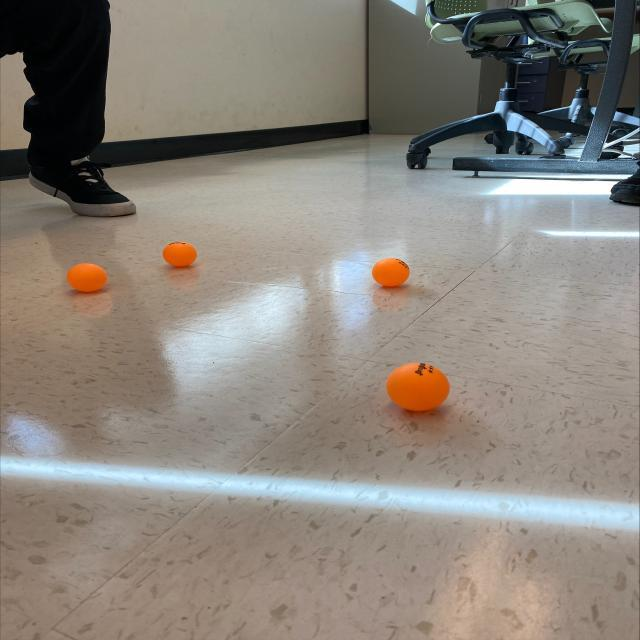ping-pong-ball: (383, 360, 454, 412), (65, 260, 108, 294), (370, 256, 410, 290), (160, 239, 199, 268)
